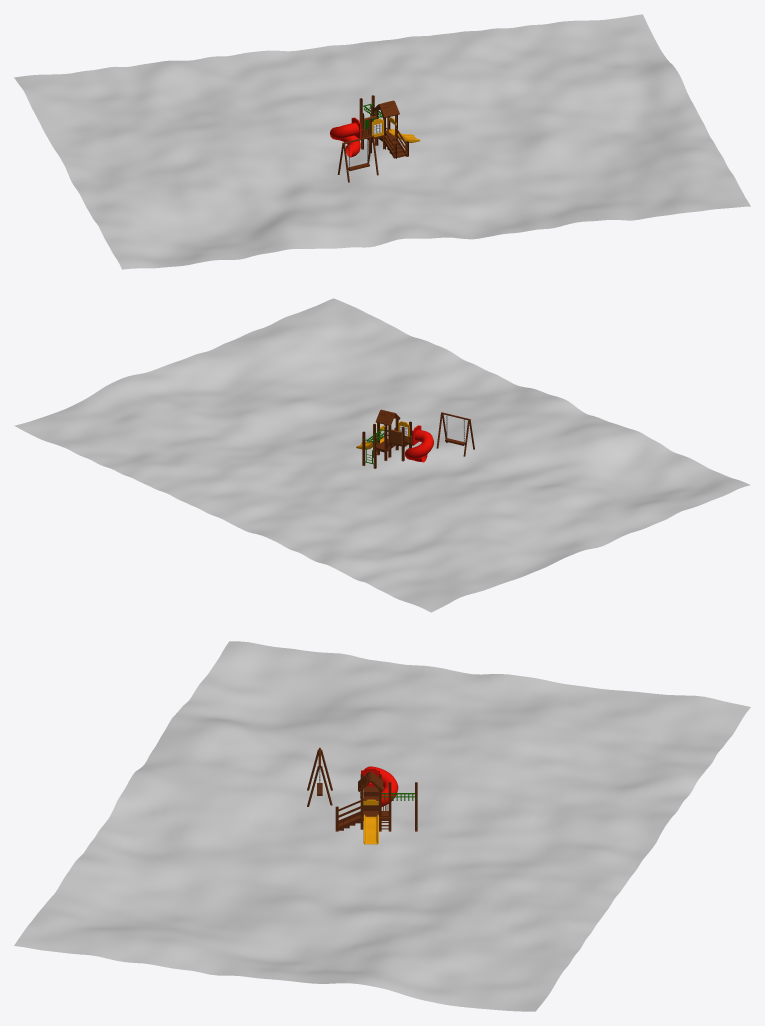
The model's file is playground2.gltf.
3 views of the same model, one above another, from view 1: azimuth 30°, elevation 25°; view 2: azimuth 150°, elevation 25°; view 3: azimuth 270°, elevation 25° (orthographic). The views are drawn at different scales.
Parts seen in each view (by area): view 1: grass-g662e83b80_1920, Cylinder.006, Spiral.001, Cylinder.004; view 2: grass-g662e83b80_1920, Cylinder.006, Spiral.001; view 3: grass-g662e83b80_1920, Cylinder.006, Cylinder.004.
Boxes of the visible parts, x1,y1,x2,y2 form: grass-g662e83b80_1920: (14, 14, 750, 269); Cylinder.006: (359, 95, 408, 158); Spiral.001: (330, 122, 360, 157); Cylinder.004: (337, 135, 378, 182); grass-g662e83b80_1920: (14, 298, 750, 612); Cylinder.006: (362, 418, 412, 468); Spiral.001: (405, 429, 433, 462); grass-g662e83b80_1920: (14, 641, 750, 1011); Cylinder.006: (335, 774, 417, 831); Cylinder.004: (307, 747, 332, 806).
Bounding box in the file's own units: 299 × 23.93 × 251.
